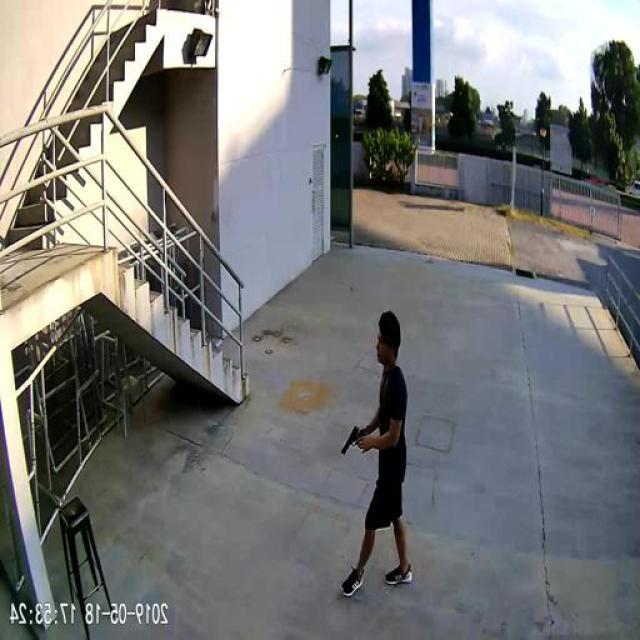Gun: (342, 421, 362, 455)
